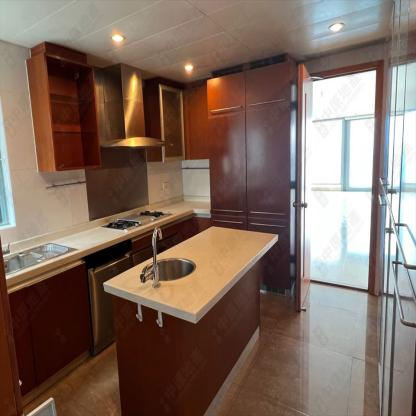Cupboard: (206, 61, 289, 235), (6, 257, 92, 398), (28, 53, 101, 172)
Exhaust Hood: (99, 61, 173, 149)
Faucet: (151, 225, 164, 288)
Sink: (1, 242, 79, 276), (142, 258, 195, 281)
Stove: (102, 210, 173, 232)
